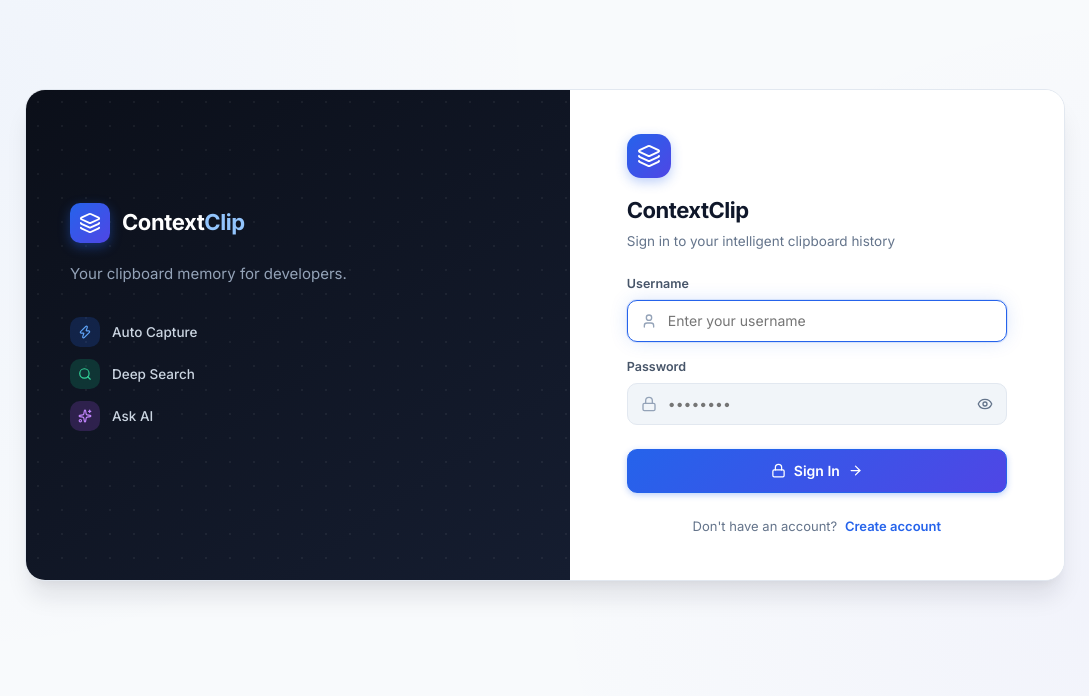
Test: ContextClip Authentication and Application UI Tests › 1. Authentication Flow (Login & Register) › 5. Registration validation catches empty fields
The width and height of the screenshot is (1089, 696).
Click the button with test id "link-to-register": [893, 526] box top-left (845, 518), bottom-right (941, 534)
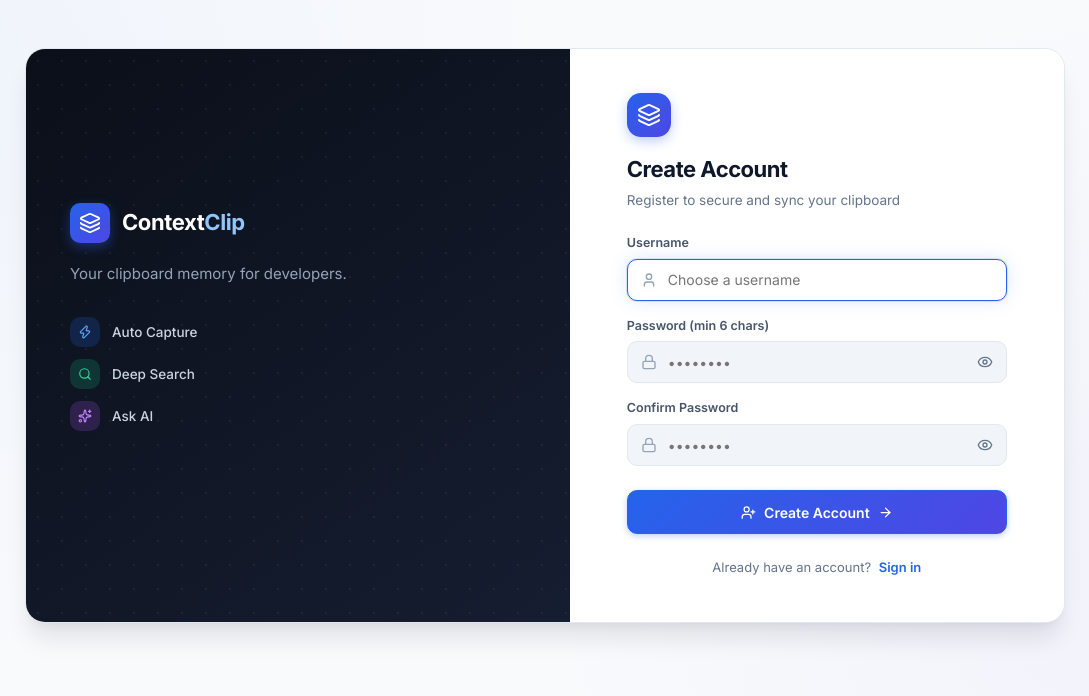
Click the button with test id "register-submit": [817, 512] box top-left (627, 490), bottom-right (1007, 534)
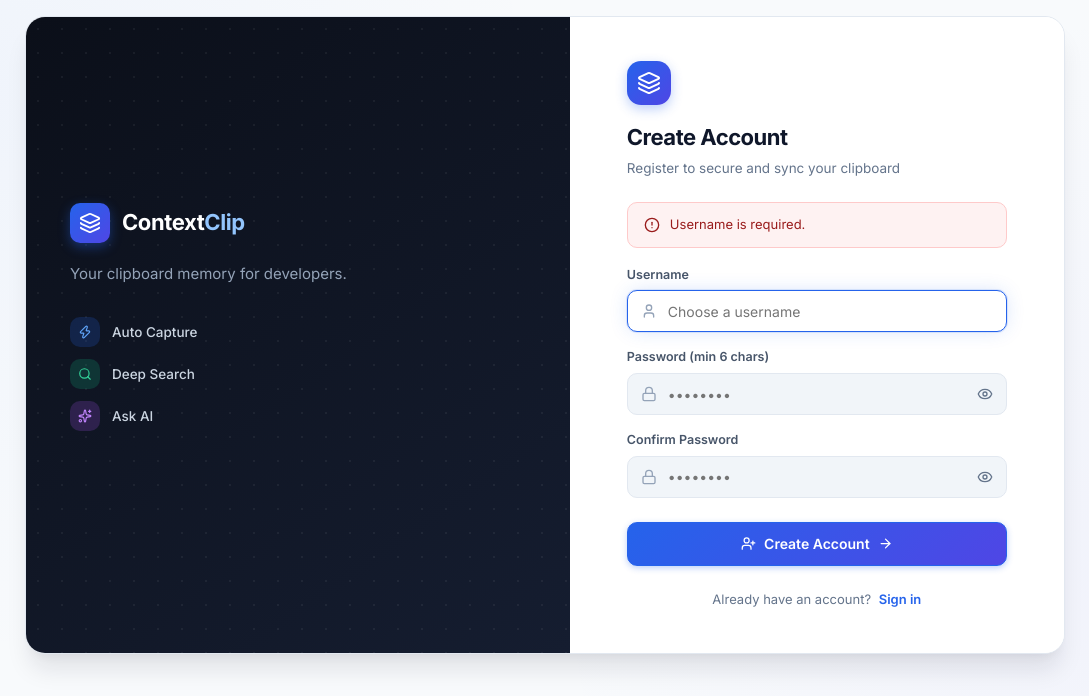
Expected: the message "Username is required." is shown, top-left (627, 202), bottom-right (1007, 248)
Expected: the text "Username is required." is shown, top-left (670, 215), bottom-right (805, 234)
